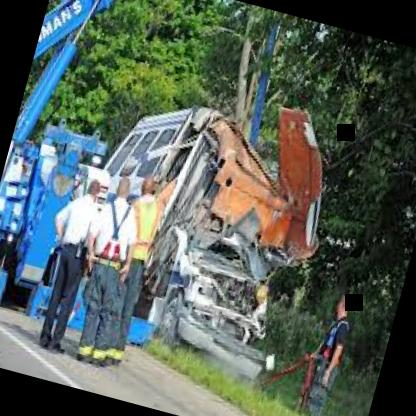accident: (33, 83, 370, 416)
